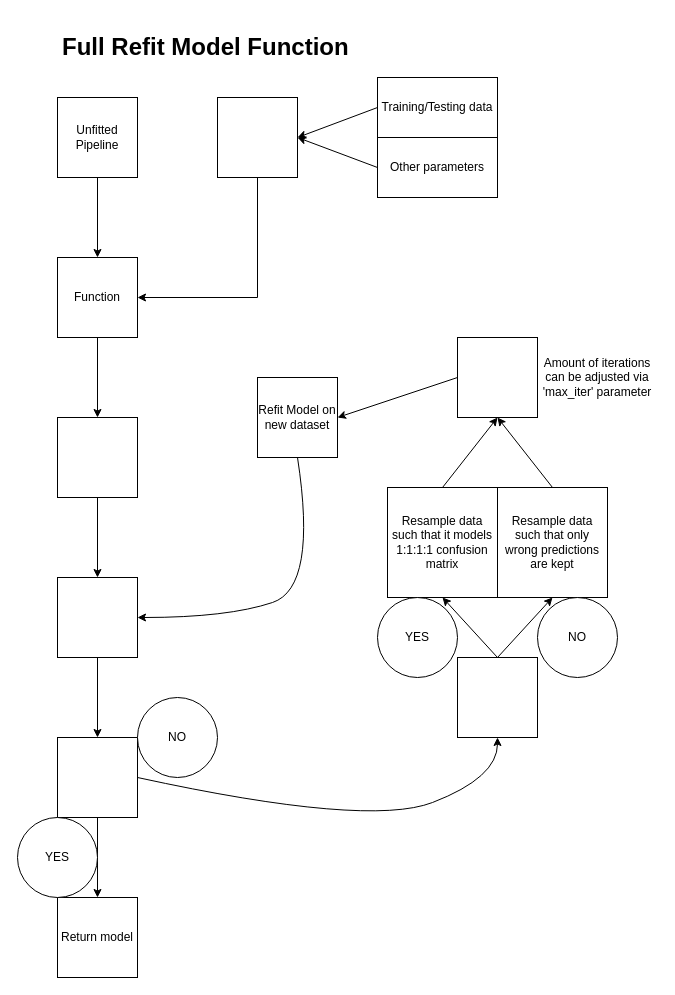
Some shapes in this 675 by 995 pixel diagram are drawn without their labels. The shapes that lost their labels are listed below. From the top down, each one's box as (x1, y1, x2, y2) in pixels, then its label:
(216, 96, 298, 178): Parameters
(456, 336, 538, 418): Return dataset
(56, 416, 138, 498): Initial Fit of Model
(56, 576, 138, 658): Get Predictions on held out test dataset
(456, 656, 538, 738): Is use_ratio True?
(56, 736, 138, 818): Is F1 score above 0.6?
